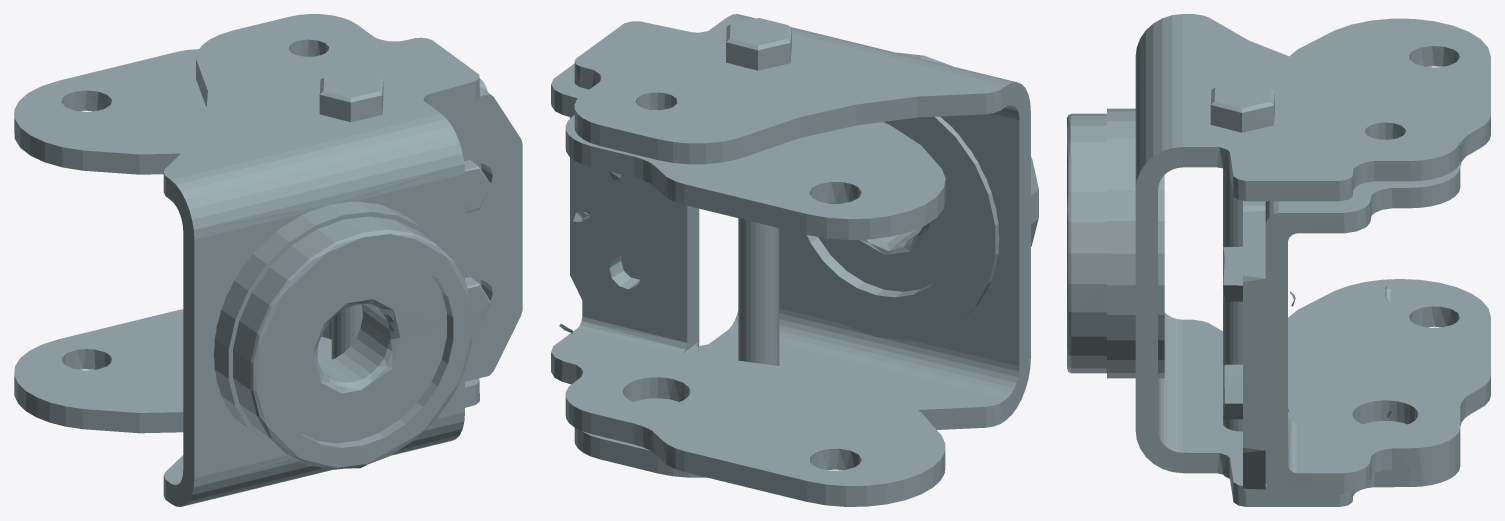
The model's file is castor_joint.dae.
3 views of the same model, side by side, from view 1: azimuth 30°, elevation 25°; view 2: azimuth 150°, elevation 25°; view 3: azimuth 270°, elevation 25° (orthographic). The views are drawn at different scales.
Visible parts, largest first — view 1: node0; view 2: node0; view 3: node0.
Part boxes in pixels (<box>): node0: <box>14,14,522,506</box>; node0: <box>551,14,1038,506</box>; node0: <box>1067,14,1490,506</box>.
Size of the model in its own units: 0.0974 by 0.0848 by 0.084.
